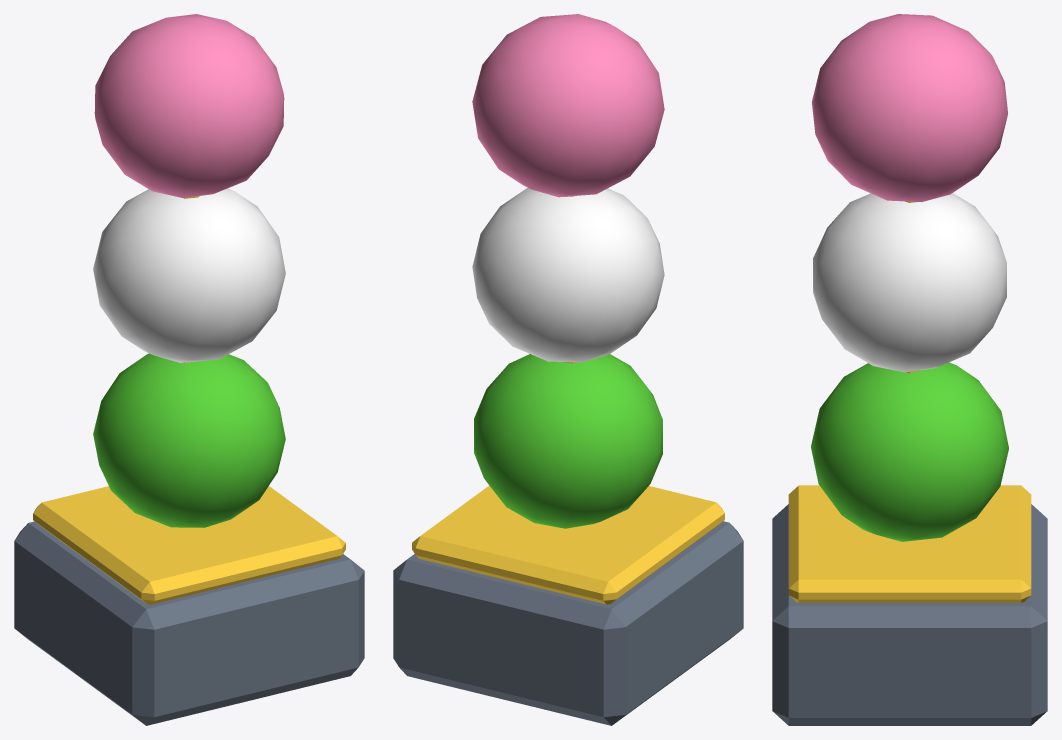
The model's file is Prop_shared_DangoStatue.glb.
3 views of the same model, side by side, from view 1: azimuth 30°, elevation 25°; view 2: azimuth 150°, elevation 25°; view 3: azimuth 270°, elevation 25° (orthographic). The views are drawn at different scales.
Parts seen in each view (by area): view 1: StoneDark_6B7686, Pink_FF8FC0, Green_5BD43A, White_FFFFFF, Yellow_FFD23F; view 2: StoneDark_6B7686, Pink_FF8FC0, White_FFFFFF, Green_5BD43A, Yellow_FFD23F; view 3: StoneDark_6B7686, Pink_FF8FC0, Green_5BD43A, White_FFFFFF, Yellow_FFD23F.
Boxes of the visible parts, x1,y1,x2,y2 form: StoneDark_6B7686: (14,521,364,725); Pink_FF8FC0: (94,14,284,197); Green_5BD43A: (93,353,285,527); White_FFFFFF: (93,188,285,362); Yellow_FFD23F: (33,196,345,604); StoneDark_6B7686: (393,521,743,725); Pink_FF8FC0: (472,14,664,197); White_FFFFFF: (472,187,664,362); Green_5BD43A: (474,354,662,528); Yellow_FFD23F: (412,196,724,604); StoneDark_6B7686: (772,504,1047,725); Pink_FF8FC0: (811,14,1007,202); Green_5BD43A: (811,362,1008,541); White_FFFFFF: (813,193,1006,372); Yellow_FFD23F: (788,201,1031,602).
Size of the model in its own units: 5 by 13.02 by 5.
